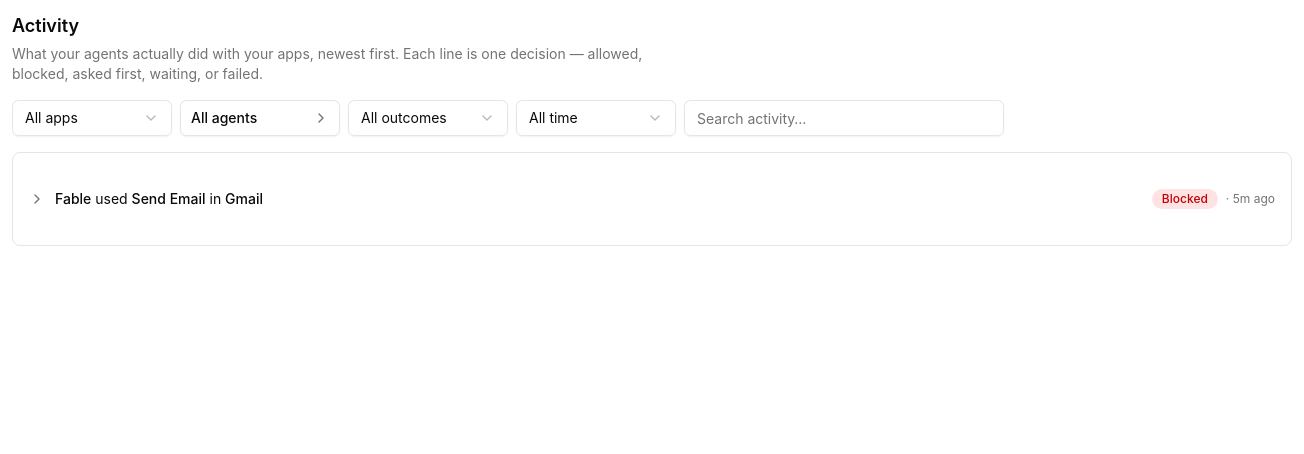
Test: AuditTab › expands a row to show the plain reason, the matched rule, and the Details collapse
This screenshot has width=1304, height=454.
Step 1. Click the button "Fable used Send Email in Gmail Blocked · 5m ago" → (73,198), box [13,177,1291,221]
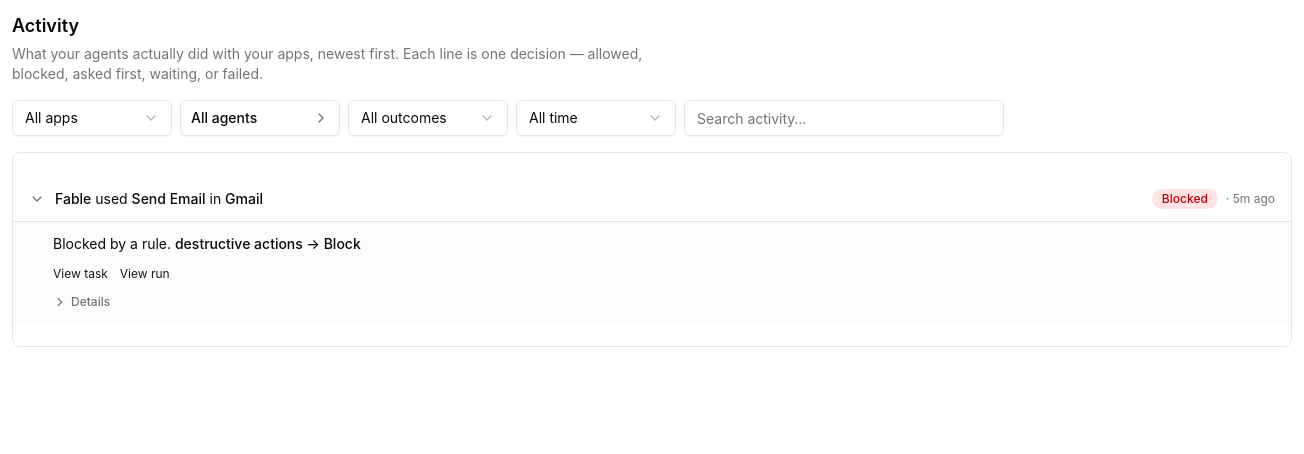
Result: the text "Blocked by a rule." is shown at [53,235,171,252]
Result: the text "destructive actions" is shown at [175,235,361,252]
Result: the button "Details" is shown
Step 2. Click the button "Details" → (82,302), box [53,294,110,310]
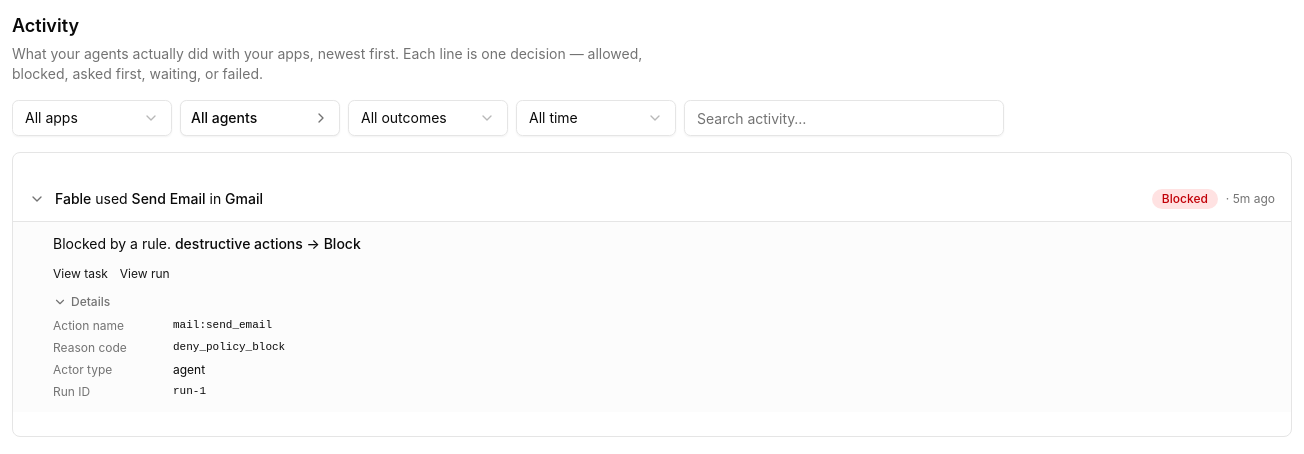
Result: the text "mail:send_email" is shown at [173,318,272,334]
Result: the text "deny_policy_block" is shown at [173,340,285,356]
